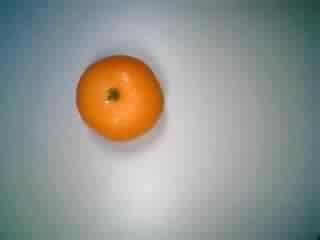orange: (69, 45, 167, 143)
